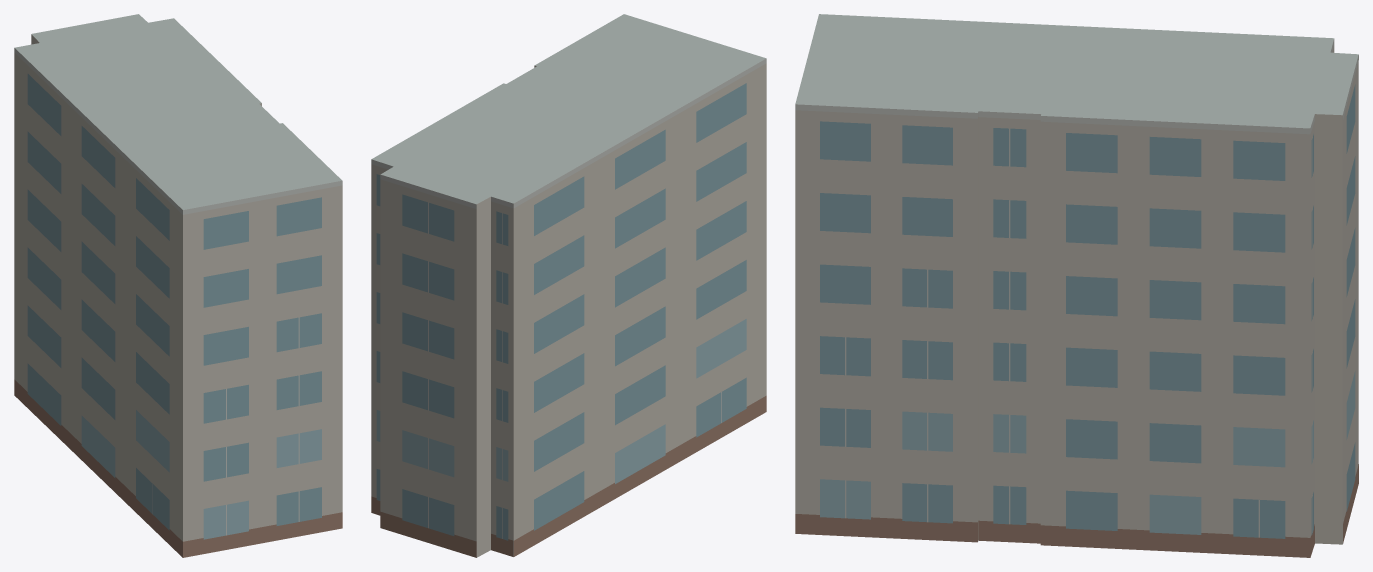
Rendered from survey-upis-32932742.glb.
3 renders of one model, left to right at view 1: azimuth 30°, elevation 25°; view 2: azimuth 150°, elevation 25°; view 3: azimuth 270°, elevation 25°, orthographic. The views are drawn at different scales.
Parts seen in each view (by area): view 1: survey-upis-32932742.tmp; view 2: survey-upis-32932742.tmp; view 3: survey-upis-32932742.tmp.
Boxes of the visible parts, x1,y1,x2,y2 form: survey-upis-32932742.tmp: [14, 14, 342, 557]; survey-upis-32932742.tmp: [371, 14, 766, 557]; survey-upis-32932742.tmp: [795, 14, 1358, 557].
Size of the model in its own units: 10.24 by 17.9 by 21.3.
